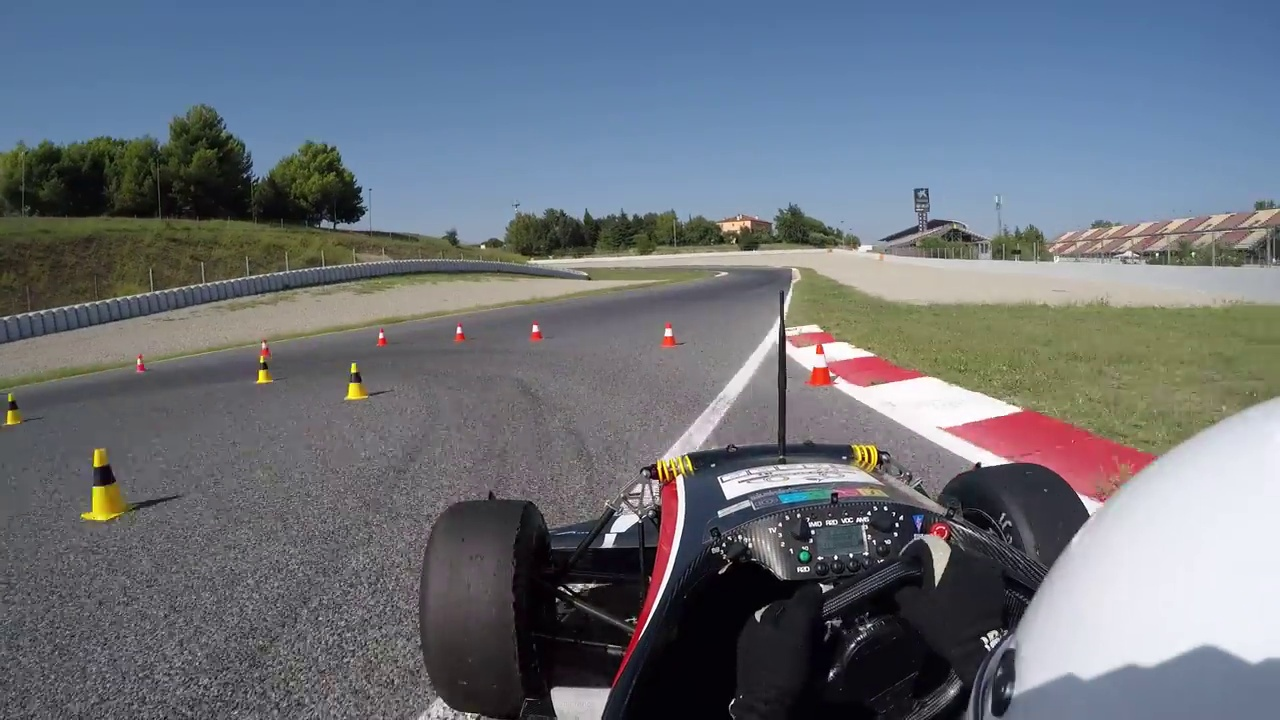Cone: (84, 448, 130, 525), (807, 340, 837, 390), (345, 361, 368, 406), (253, 353, 273, 386)
